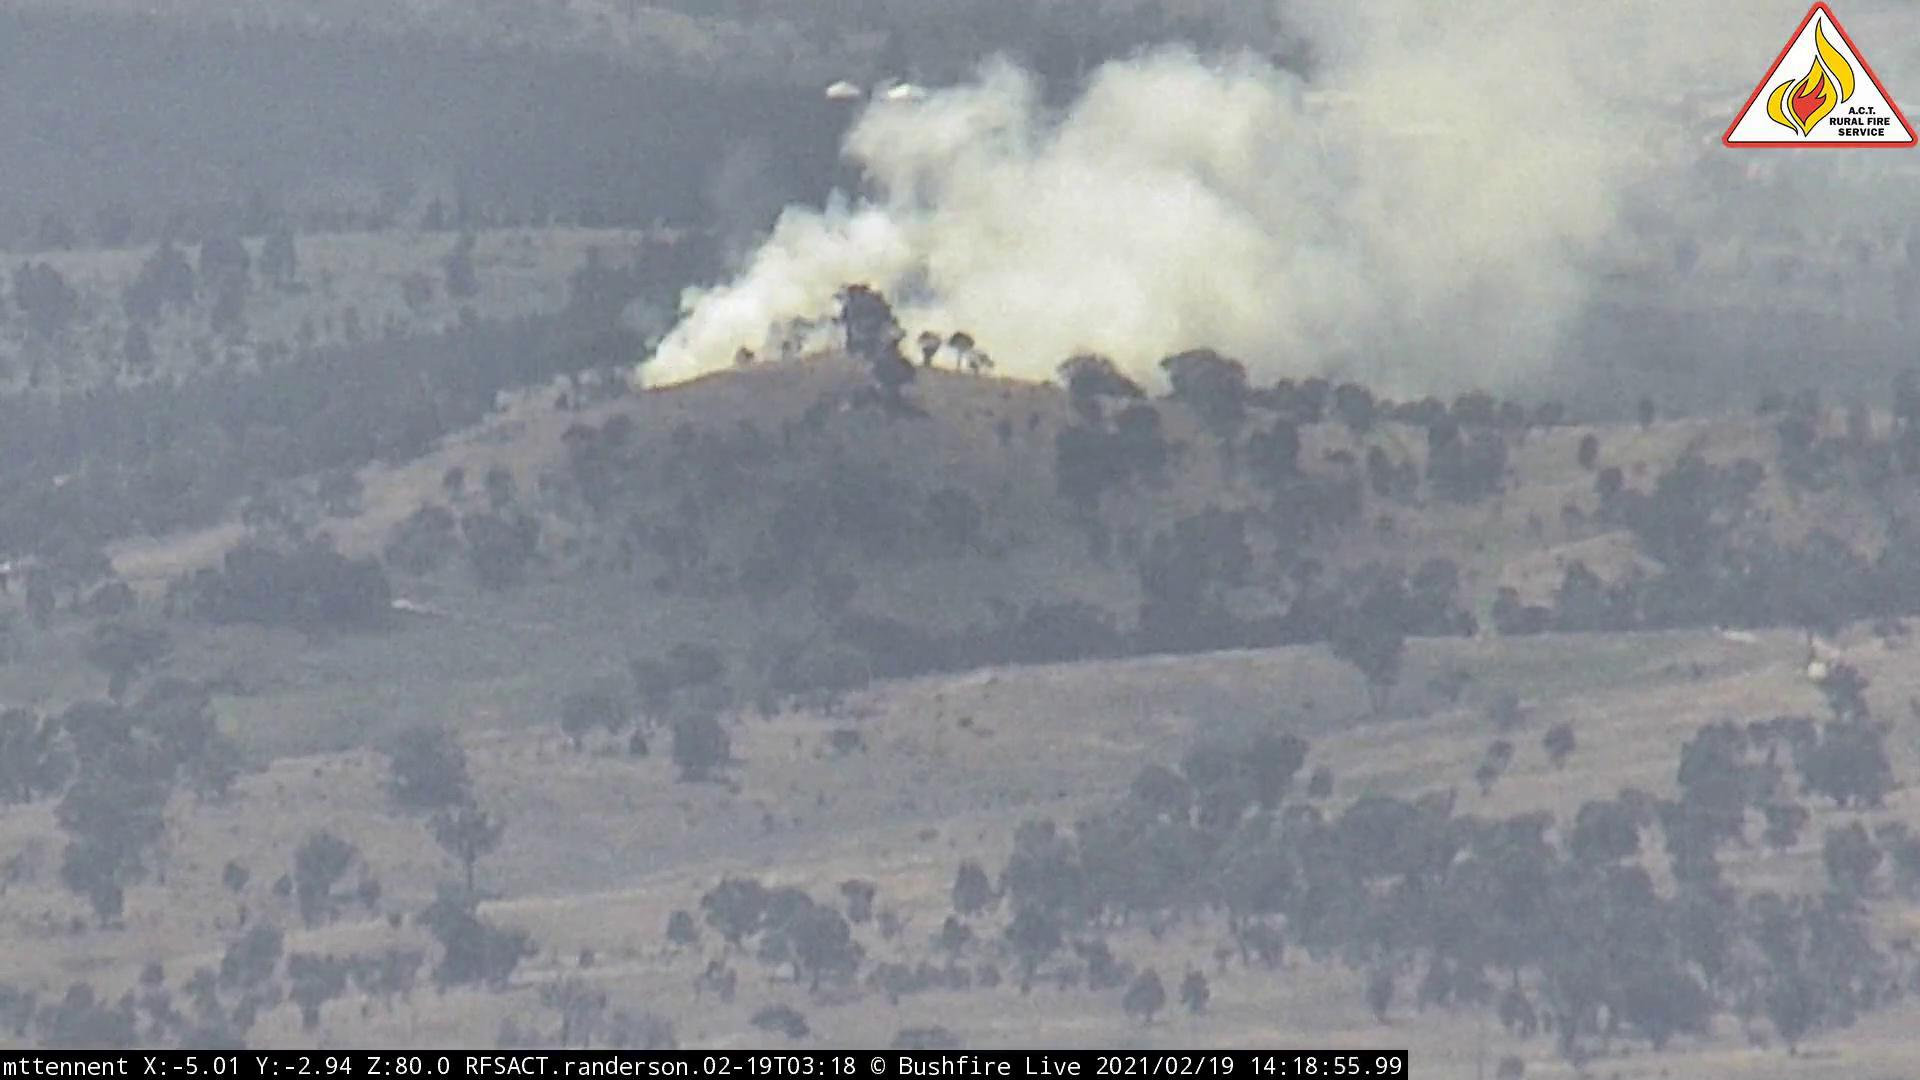instance_salient_object: (597, 3, 1640, 414)
